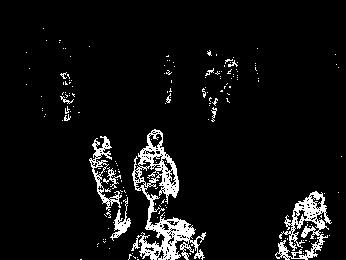person: (132, 126, 181, 228), (89, 134, 135, 242), (201, 64, 223, 123), (57, 69, 78, 122)
